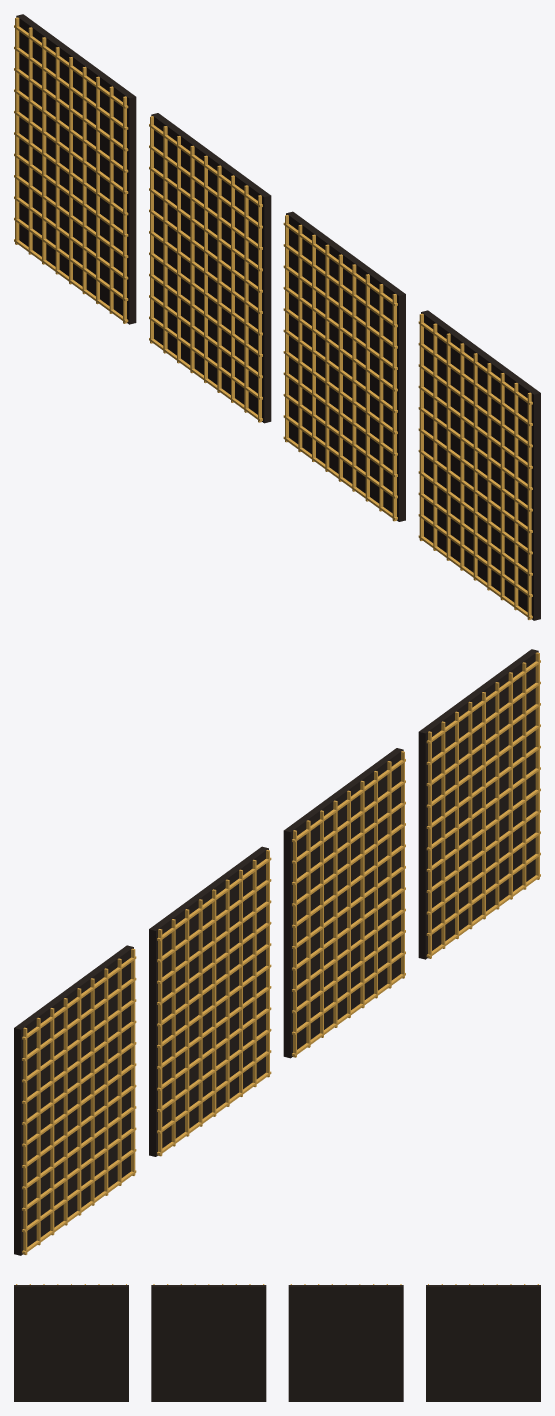
The model's file is SM_32_Windows_West.fbx.
The picture shows the model from 3 angles, top to bottom: view 1: azimuth 30°, elevation 25°; view 2: azimuth 150°, elevation 25°; view 3: azimuth 270°, elevation 25°; orthographic projection. The views are drawn at different scales.
Parts seen in each view (by area): view 1: Windows_West; view 2: Windows_West; view 3: Windows_West.
Part boxes in pixels (box(x1,y1,x2,y2)): Windows_West: box(14, 14, 540, 620); Windows_West: box(14, 649, 540, 1255); Windows_West: box(14, 1284, 540, 1401).
Size of the model in its own units: 17.5 by 1535 by 370.
